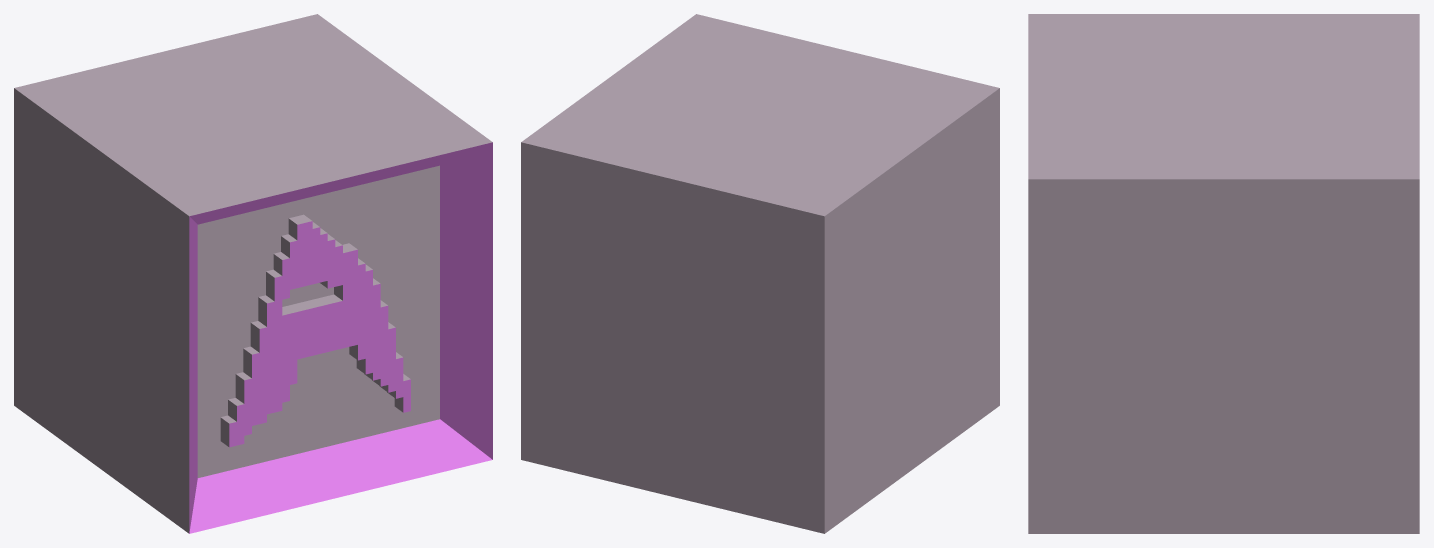
File: BlockA.fbx
The picture shows the model from 3 angles, left to right: view 1: azimuth 30°, elevation 25°; view 2: azimuth 150°, elevation 25°; view 3: azimuth 270°, elevation 25°; orthographic projection. The views are drawn at different scales.
Visible parts, largest first — view 1: Cube; view 2: Cube; view 3: Cube.
Boxes of the visible parts, x1=… form: Cube: x1=14, y1=14, x2=492, y2=533; Cube: x1=521, y1=14, x2=999, y2=533; Cube: x1=1028, y1=14, x2=1419, y2=533.
Bounding box in the file's own units: 2000 × 2000 × 2000.
